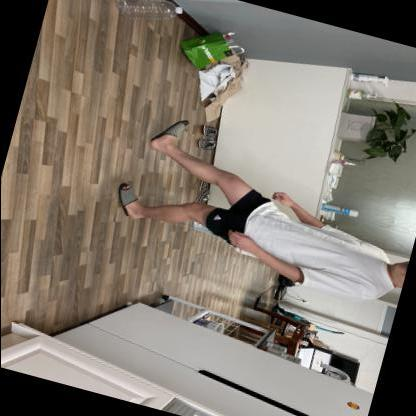no_safety-shoe: (103, 175, 156, 227), (147, 109, 192, 160)
